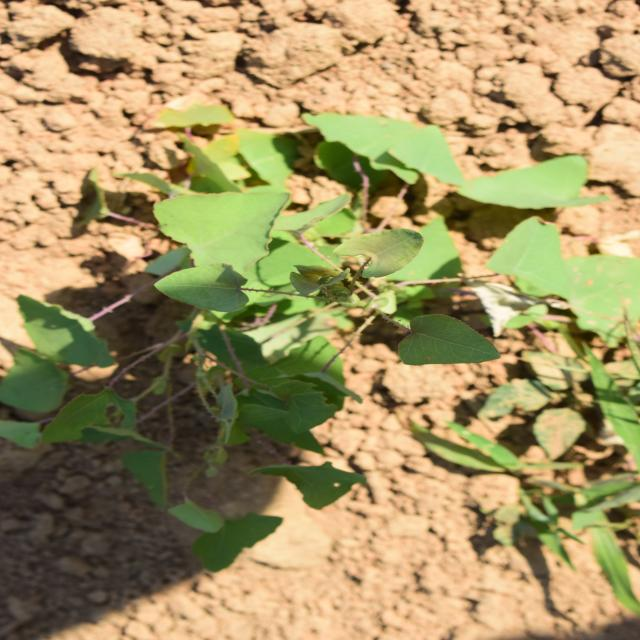Asiatic_Smartweed: (216, 148, 446, 504), (412, 284, 532, 596)
